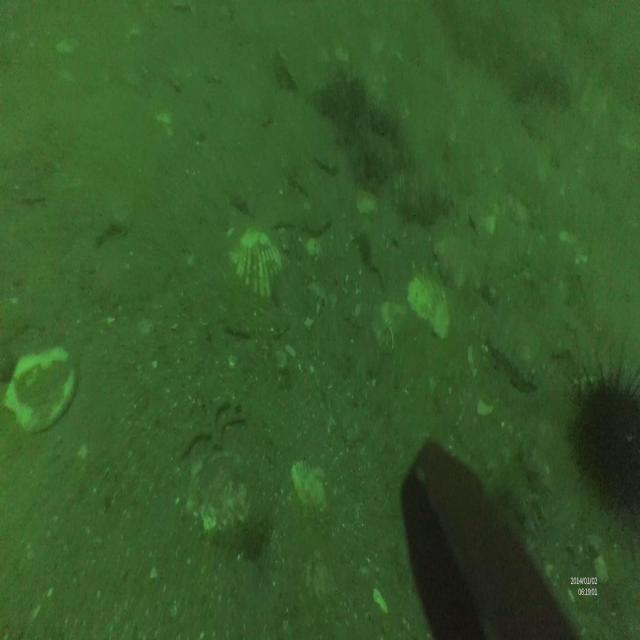echinus: (567, 344, 640, 522)
scallop: (6, 348, 73, 429), (229, 228, 276, 289), (408, 274, 450, 335)
